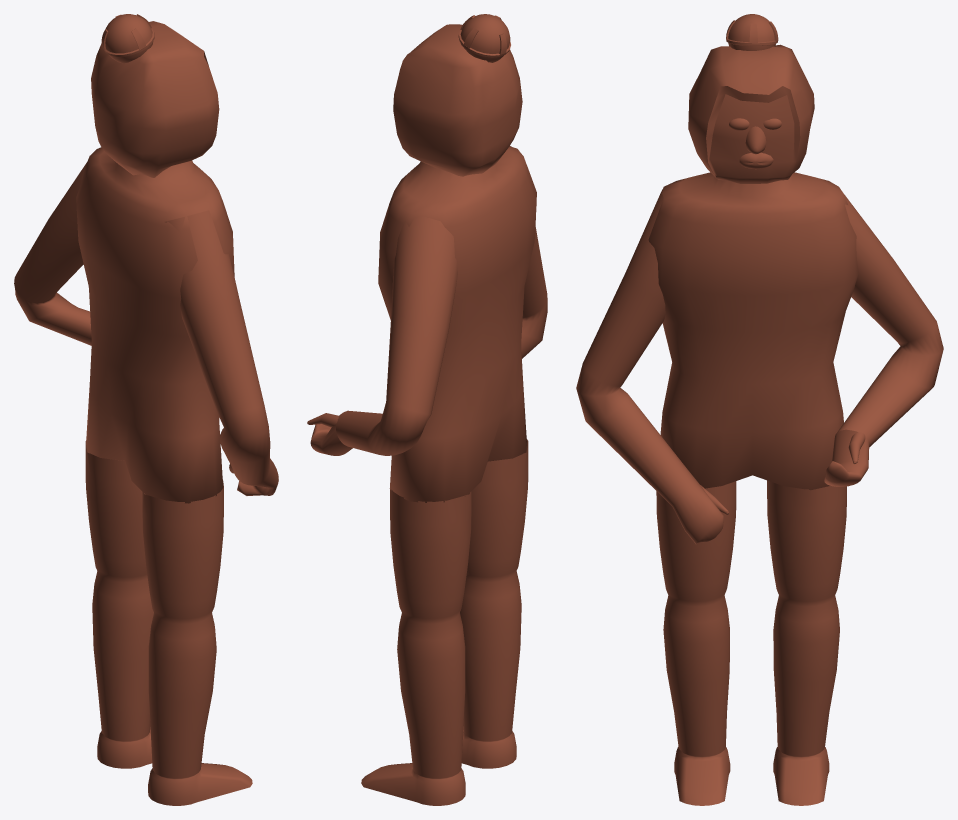
The model's file is Statue.fbx.
3 renders of one model, left to right at view 1: azimuth 30°, elevation 25°; view 2: azimuth 150°, elevation 25°; view 3: azimuth 270°, elevation 25°, orthographic. The views are drawn at different scales.
Parts seen in each view (by area): view 1: pSphere31; view 2: pSphere31; view 3: pSphere31.
Part boxes in pixels (bbox=[...]): pSphere31: bbox=[14, 14, 278, 805]; pSphere31: bbox=[307, 14, 547, 805]; pSphere31: bbox=[576, 14, 943, 805].
Size of the model in its own units: 1.41 by 6.7 by 3.
